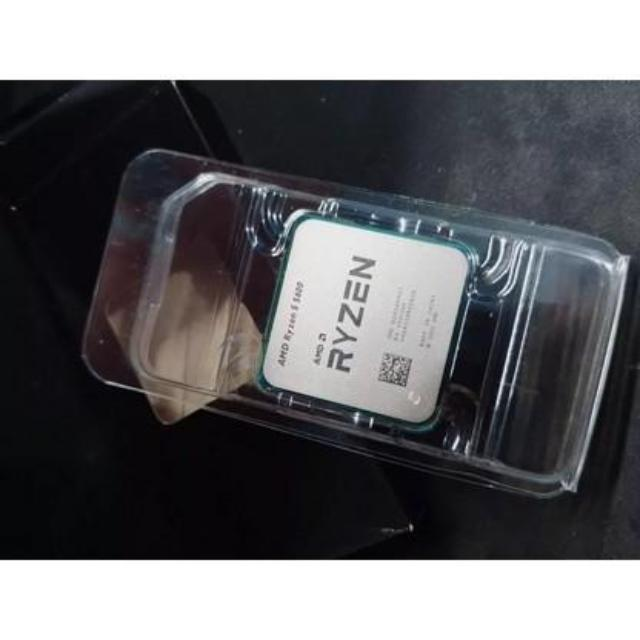CPU: (264, 213, 470, 427)
